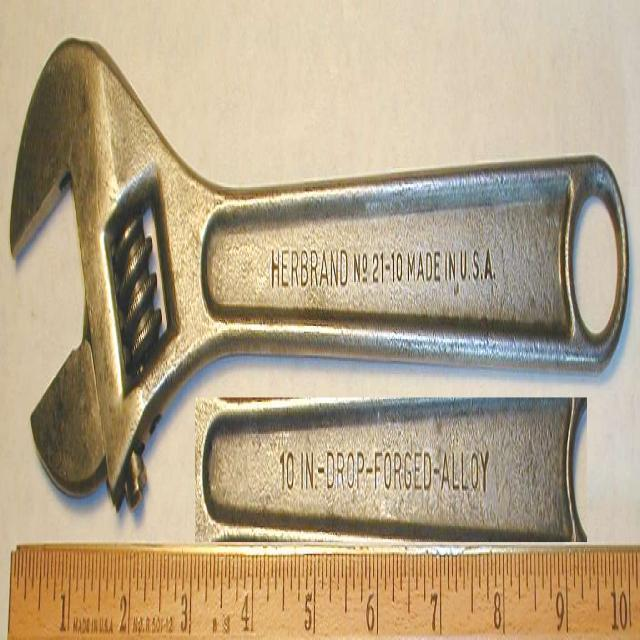wrench: (4, 22, 626, 477)
